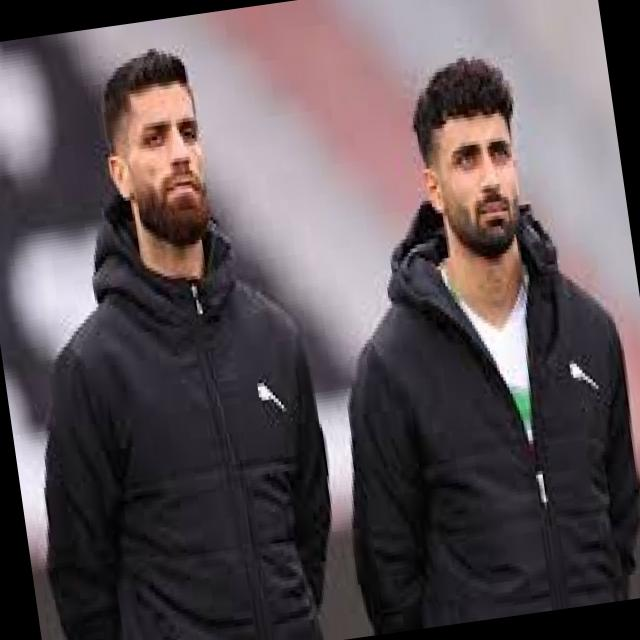Jacket: (0, 235, 355, 640), (313, 207, 640, 636)
